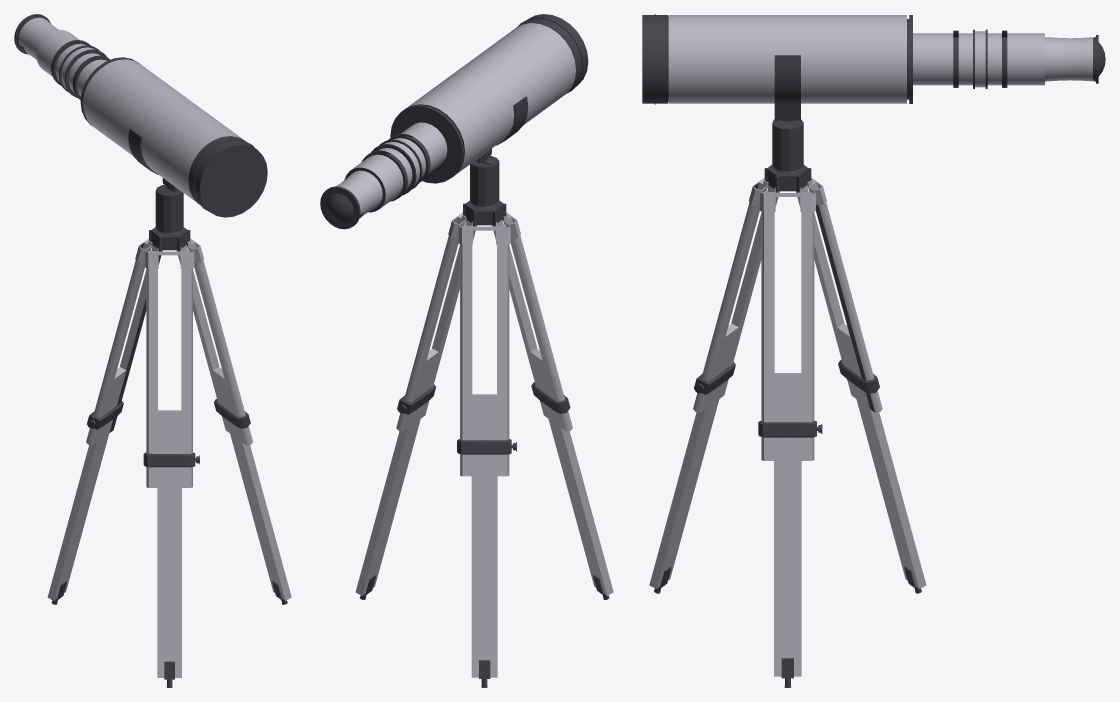
The model's file is Telescope.obj.
The picture shows the model from 3 angles, left to right: view 1: azimuth 30°, elevation 25°; view 2: azimuth 150°, elevation 25°; view 3: azimuth 270°, elevation 25°; orthographic projection. The views are drawn at different scales.
Parts seen in each view (by area): view 1: polySurface100 polySurface92 polySurface90 polySurface87 polySur, polySurface92 polySurface90 polySurface87 polySurface84 polySurf; view 2: polySurface100 polySurface92 polySurface90 polySurface87 polySur, polySurface92 polySurface90 polySurface87 polySurface84 polySurf; view 3: polySurface100 polySurface92 polySurface90 polySurface87 polySur, polySurface92 polySurface90 polySurface87 polySurface84 polySurf.
Part boxes in pixels (box(x1,y1,x2,y2)): polySurface100 polySurface92 polySurface90 polySurface87 polySur: box(14, 14, 291, 687); polySurface92 polySurface90 polySurface87 polySurface84 polySurf: box(18, 17, 244, 202); polySurface100 polySurface92 polySurface90 polySurface87 polySur: box(320, 14, 613, 687); polySurface92 polySurface90 polySurface87 polySurface84 polySurf: box(336, 23, 575, 217); polySurface100 polySurface92 polySurface90 polySurface87 polySur: box(642, 14, 1105, 687); polySurface92 polySurface90 polySurface87 polySurface84 polySurf: box(668, 15, 1092, 103).
Size of the model in its own units: 0.9739 by 2.69 by 1.86.
Materials: 5 (5 with a texture image).
